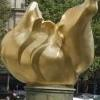Statue: (0, 2, 100, 89)
